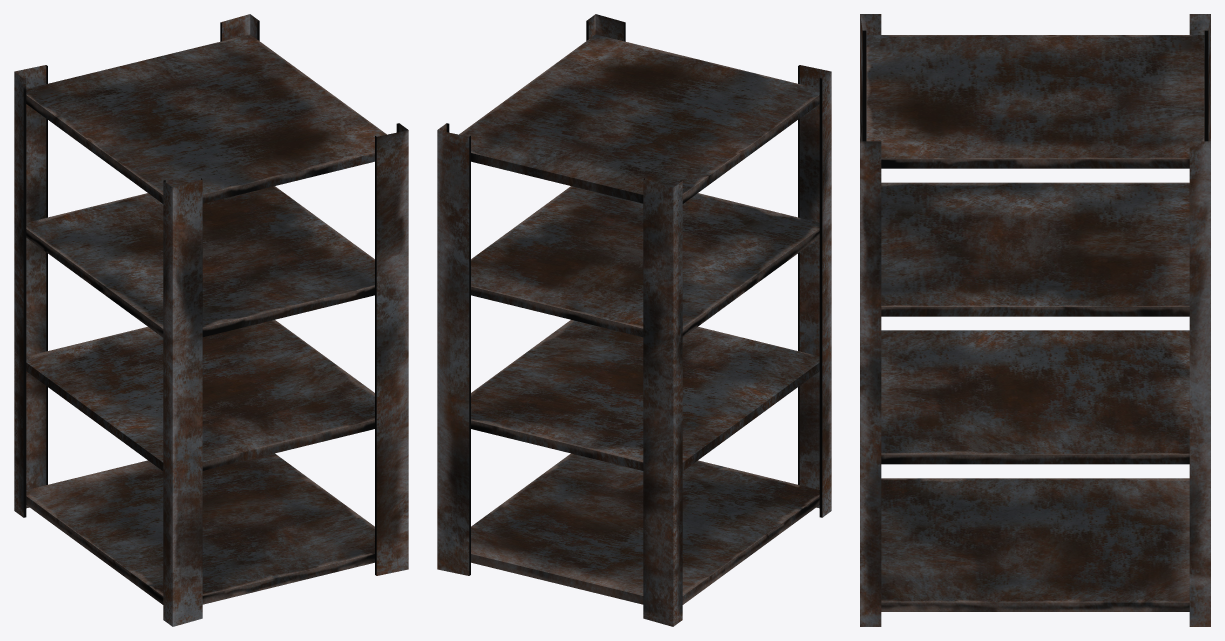
The model's file is old_rusty_shelving_unit.glb.
3 views of the same model, side by side, from view 1: azimuth 30°, elevation 25°; view 2: azimuth 150°, elevation 25°; view 3: azimuth 270°, elevation 25° (orthographic). The views are drawn at different scales.
Parts seen in each view (by area): view 1: Object_2; view 2: Object_2; view 3: Object_2.
Boxes of the visible parts, x1,y1,x2,y2 form: Object_2: [14, 14, 408, 626]; Object_2: [437, 14, 831, 626]; Object_2: [860, 14, 1210, 626].
Size of the model in its own units: 2.03 by 3.61 by 2.36.
Materials: 1 (1 with a texture image).
